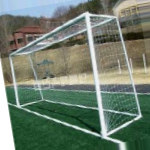goals: (8, 8, 144, 141)
